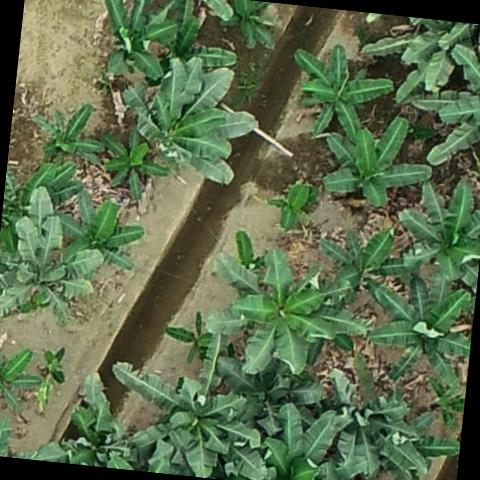Banana-plant: (204, 237, 377, 384), (116, 52, 258, 188), (107, 357, 252, 480), (0, 191, 103, 326), (317, 109, 430, 211), (42, 361, 146, 470), (369, 276, 472, 385), (324, 373, 435, 472), (285, 41, 394, 134), (394, 180, 480, 293), (231, 399, 349, 480), (320, 223, 410, 306), (58, 194, 143, 274), (429, 47, 480, 171), (100, 0, 172, 77), (98, 132, 170, 204), (40, 104, 99, 164), (219, 0, 278, 48), (265, 180, 317, 229), (0, 346, 41, 407), (37, 344, 65, 392)
